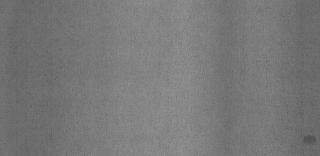oil spot: (302, 135, 316, 147)
